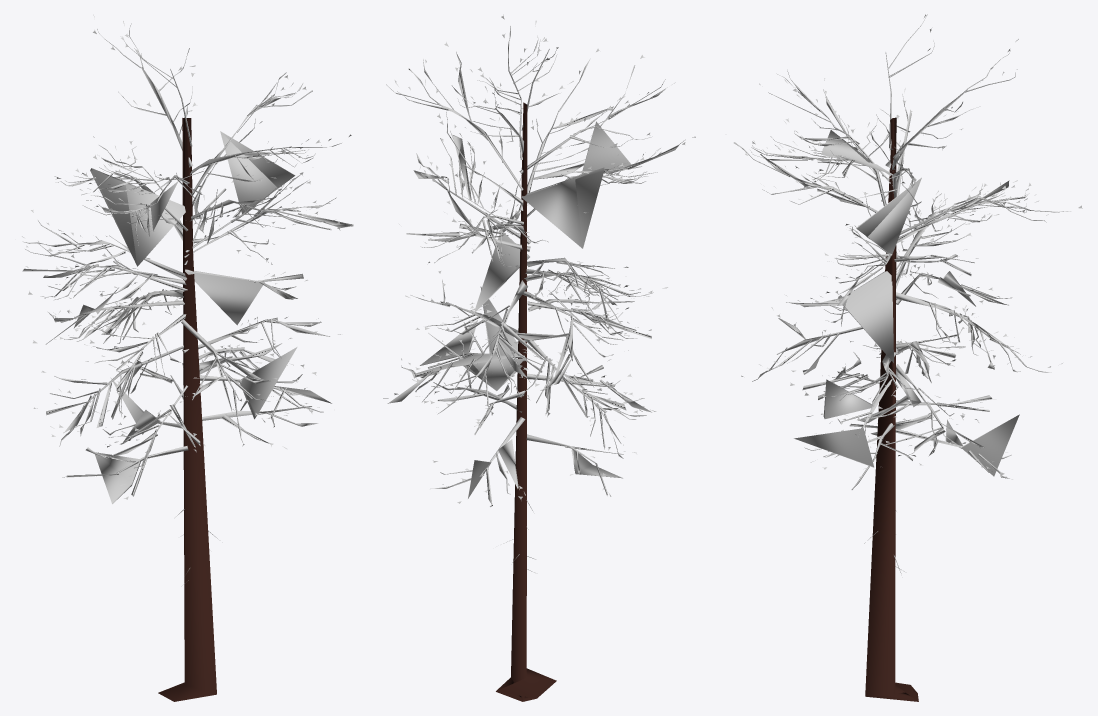
Rendered from pine_b_lod2.obj.
The picture shows the model from 3 angles, left to right: view 1: azimuth 30°, elevation 25°; view 2: azimuth 150°, elevation 25°; view 3: azimuth 270°, elevation 25°; orthographic projection.
Visible parts, largest first — view 1: pine_b_lod2; view 2: pine_b_lod2; view 3: pine_b_lod2.
Boxes of the visible parts, <box> form: pine_b_lod2: <box>22,14,353,701</box>; pine_b_lod2: <box>383,14,695,701</box>; pine_b_lod2: <box>733,14,1082,701</box>.
Bounding box in the file's own units: 250 × 562 × 276.
